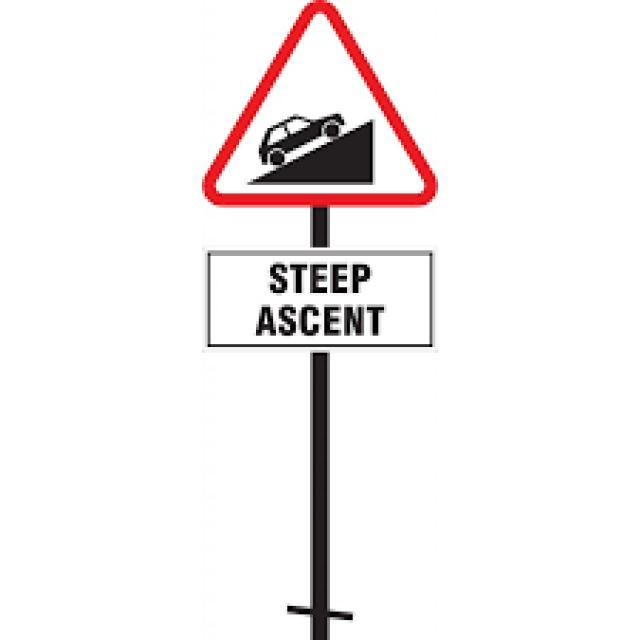steep ascent: (199, 11, 441, 202)
